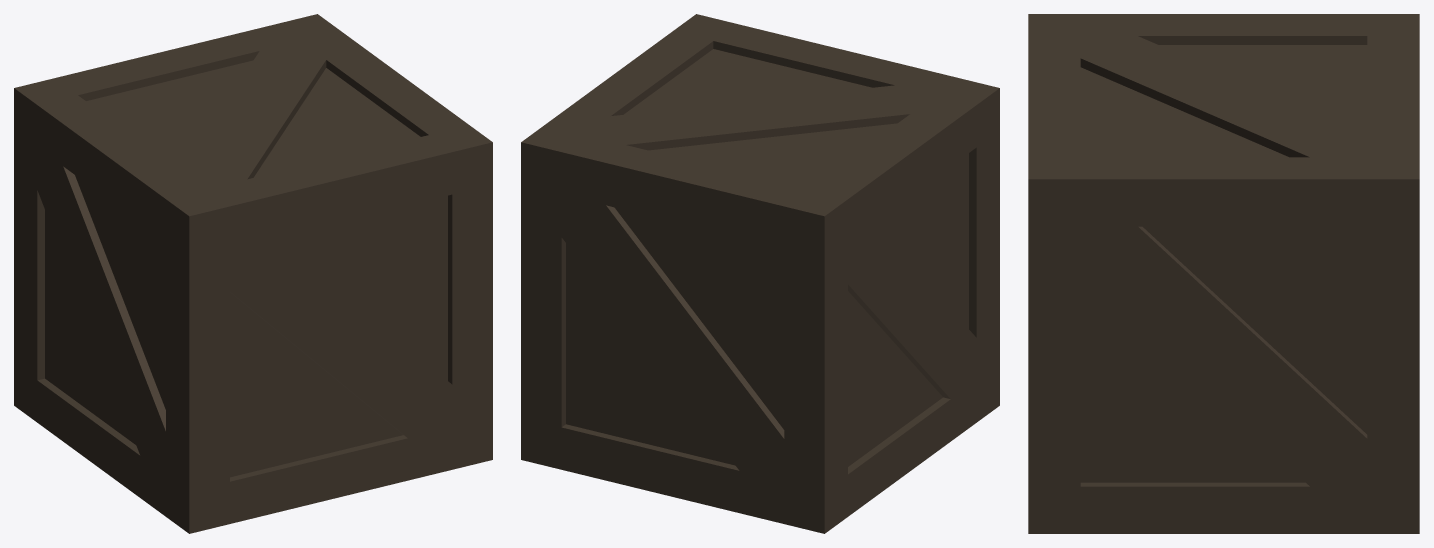
Rendered from Crate.fbx.
The picture shows the model from 3 angles, left to right: view 1: azimuth 30°, elevation 25°; view 2: azimuth 150°, elevation 25°; view 3: azimuth 270°, elevation 25°; orthographic projection. The views are drawn at different scales.
Parts seen in each view (by area): view 1: Crate; view 2: Crate; view 3: Crate.
Boxes of the visible parts, x1,y1,x2,y2 form: Crate: (14, 14, 492, 533); Crate: (521, 14, 999, 533); Crate: (1028, 14, 1419, 533).
Bounding box in the file's own units: 101 × 101 × 101.
